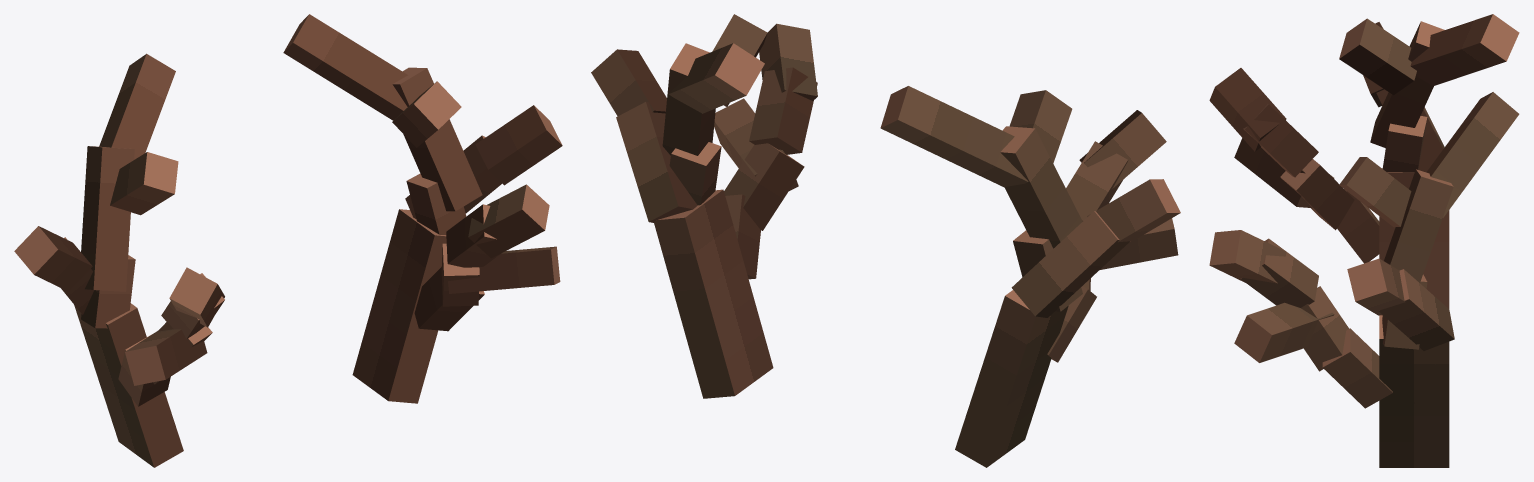
File: antlers.gltf
3 views of the same model, side by side, from view 1: azimuth 30°, elevation 25°; view 2: azimuth 150°, elevation 25°; view 3: azimuth 270°, elevation 25° (orthographic). The views are drawn at different scales.
Visible parts, largest first — view 1: cube (×23); view 2: cube (×23); view 3: cube (×23).
Boxes of the visible parts, x1,y1,x2,y2 form: cube (×23): (14, 14, 562, 467); cube (×23): (591, 14, 1180, 467); cube (×23): (1209, 14, 1519, 467).
Size of the model in its own units: 1.08 by 0.6934 by 0.5534.
Materials: 1 (1 with a texture image).
